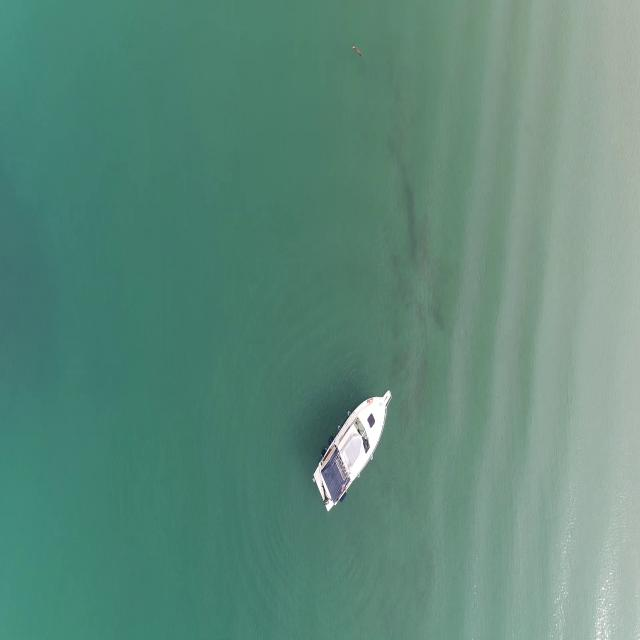boat: (315, 386, 391, 519)
wood: (352, 44, 364, 58)
